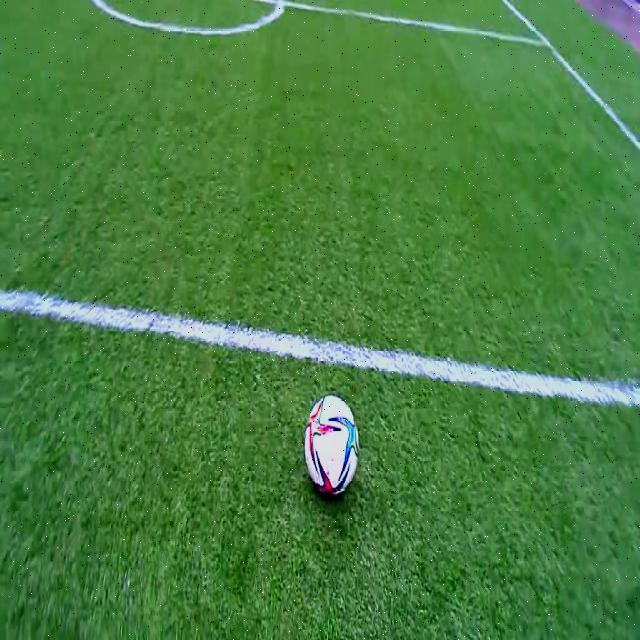ball: (304, 396, 357, 496)
